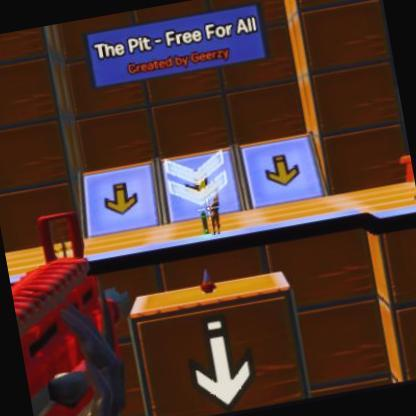person: (208, 193, 224, 229)
